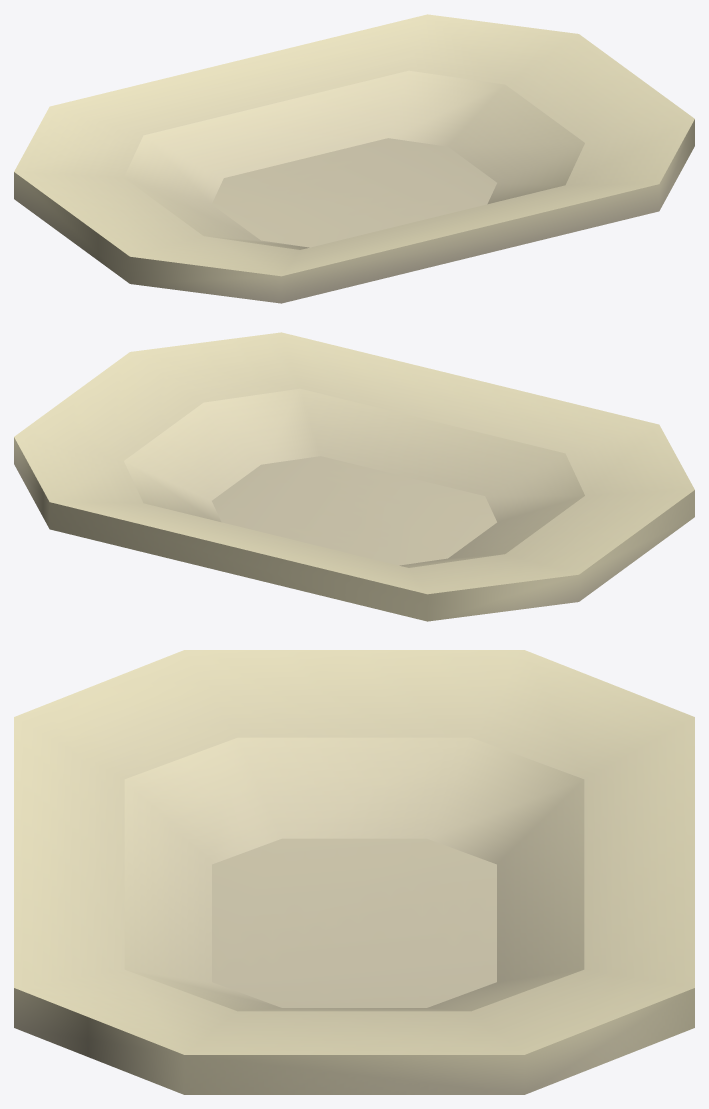
The model's file is plate_ceramic_oval.fbx.
The picture shows the model from 3 angles, top to bottom: view 1: azimuth 30°, elevation 25°; view 2: azimuth 150°, elevation 25°; view 3: azimuth 270°, elevation 25°; orthographic projection. The views are drawn at different scales.
Parts seen in each view (by area): view 1: plate_ceramic_oval; view 2: plate_ceramic_oval; view 3: plate_ceramic_oval.
Part boxes in pixels (box(x1,y1,x2,y2)): plate_ceramic_oval: box(14, 14, 694, 303); plate_ceramic_oval: box(14, 332, 694, 621); plate_ceramic_oval: box(14, 650, 694, 1094).
Bounding box in the file's own units: 65.03 × 6.82 × 46.22.
